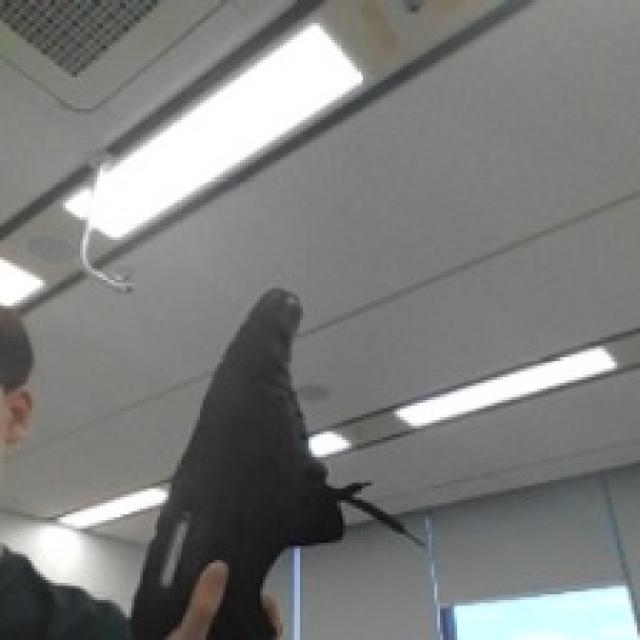shoe: (94, 260, 440, 640)
